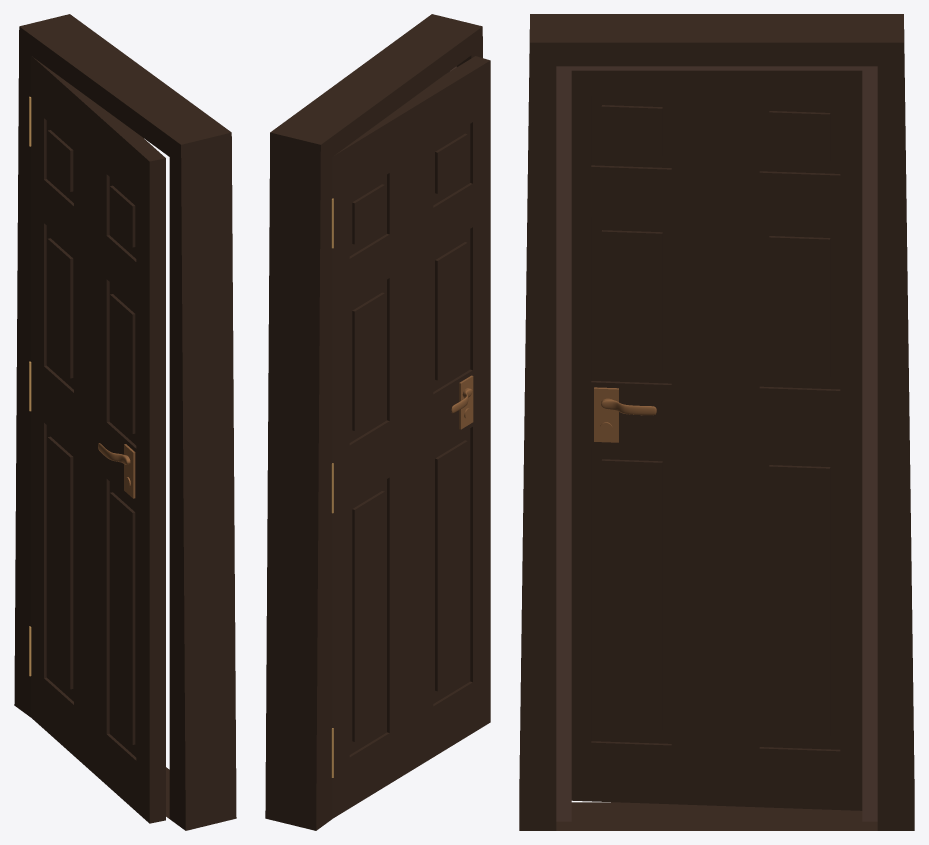
File: deuranimatie2.fbx
3 renders of one model, left to right at view 1: azimuth 30°, elevation 25°; view 2: azimuth 150°, elevation 25°; view 3: azimuth 270°, elevation 25°, orthographic. The views are drawn at different scales.
Visible parts, largest first — view 1: deur, deurpost, hendel basis binnen; view 2: deur, deurpost, hendel basis binnen; view 3: deur, deurpost, deurpost L, deurpost R, deurpost boven, hendel basis binnen.001.
Boxes of the visible parts, bbox=[...] form: deur: bbox=[30, 55, 165, 823]; deurpost: bbox=[14, 14, 236, 830]; hendel basis binnen: bbox=[124, 444, 135, 498]; deur: bbox=[332, 56, 490, 818]; deurpost: bbox=[265, 14, 482, 830]; hendel basis binnen: bbox=[459, 375, 473, 429]; deur: bbox=[571, 70, 862, 810]; deurpost: bbox=[519, 14, 914, 830]; deurpost L: bbox=[556, 66, 571, 821]; deurpost R: bbox=[862, 66, 877, 821]; deurpost boven: bbox=[571, 66, 862, 70]; hendel basis binnen.001: bbox=[594, 387, 618, 442].
Size of the model in its own units: 25.07 by 206 by 93.79.
